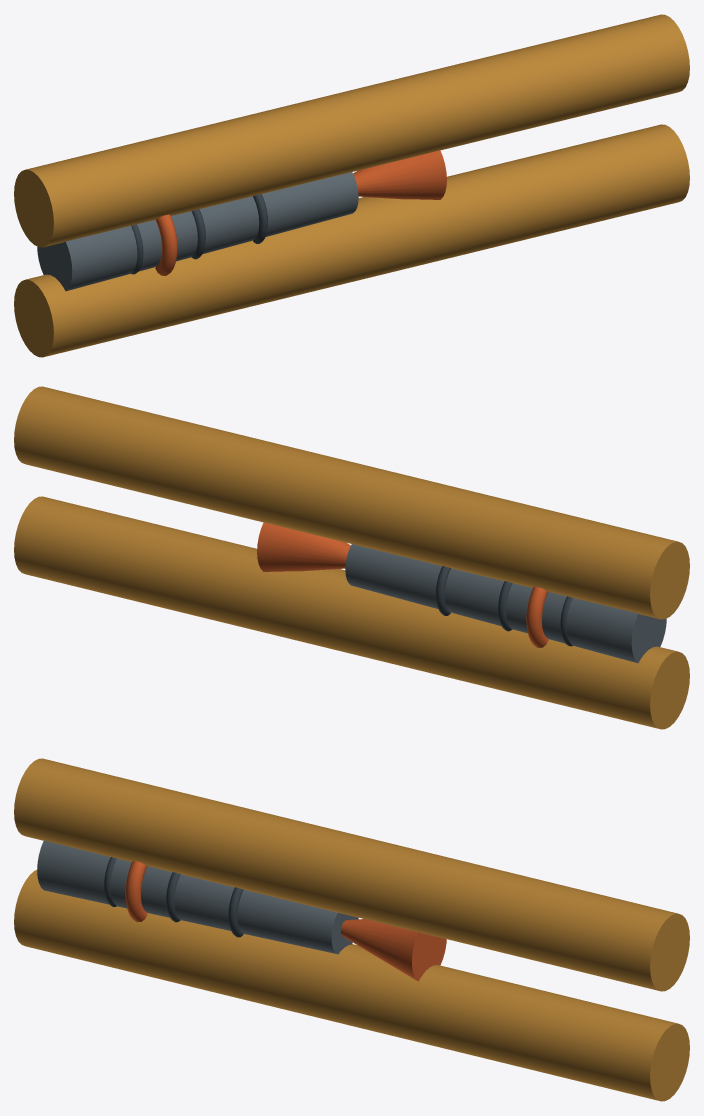
File: shot.glb
3 renders of one model, top to bottom at view 1: azimuth 30°, elevation 25°; view 2: azimuth 150°, elevation 25°; view 3: azimuth 330°, elevation 25°, orthographic.
Size of the model in its own units: 4.6 by 1.26 by 0.56.
